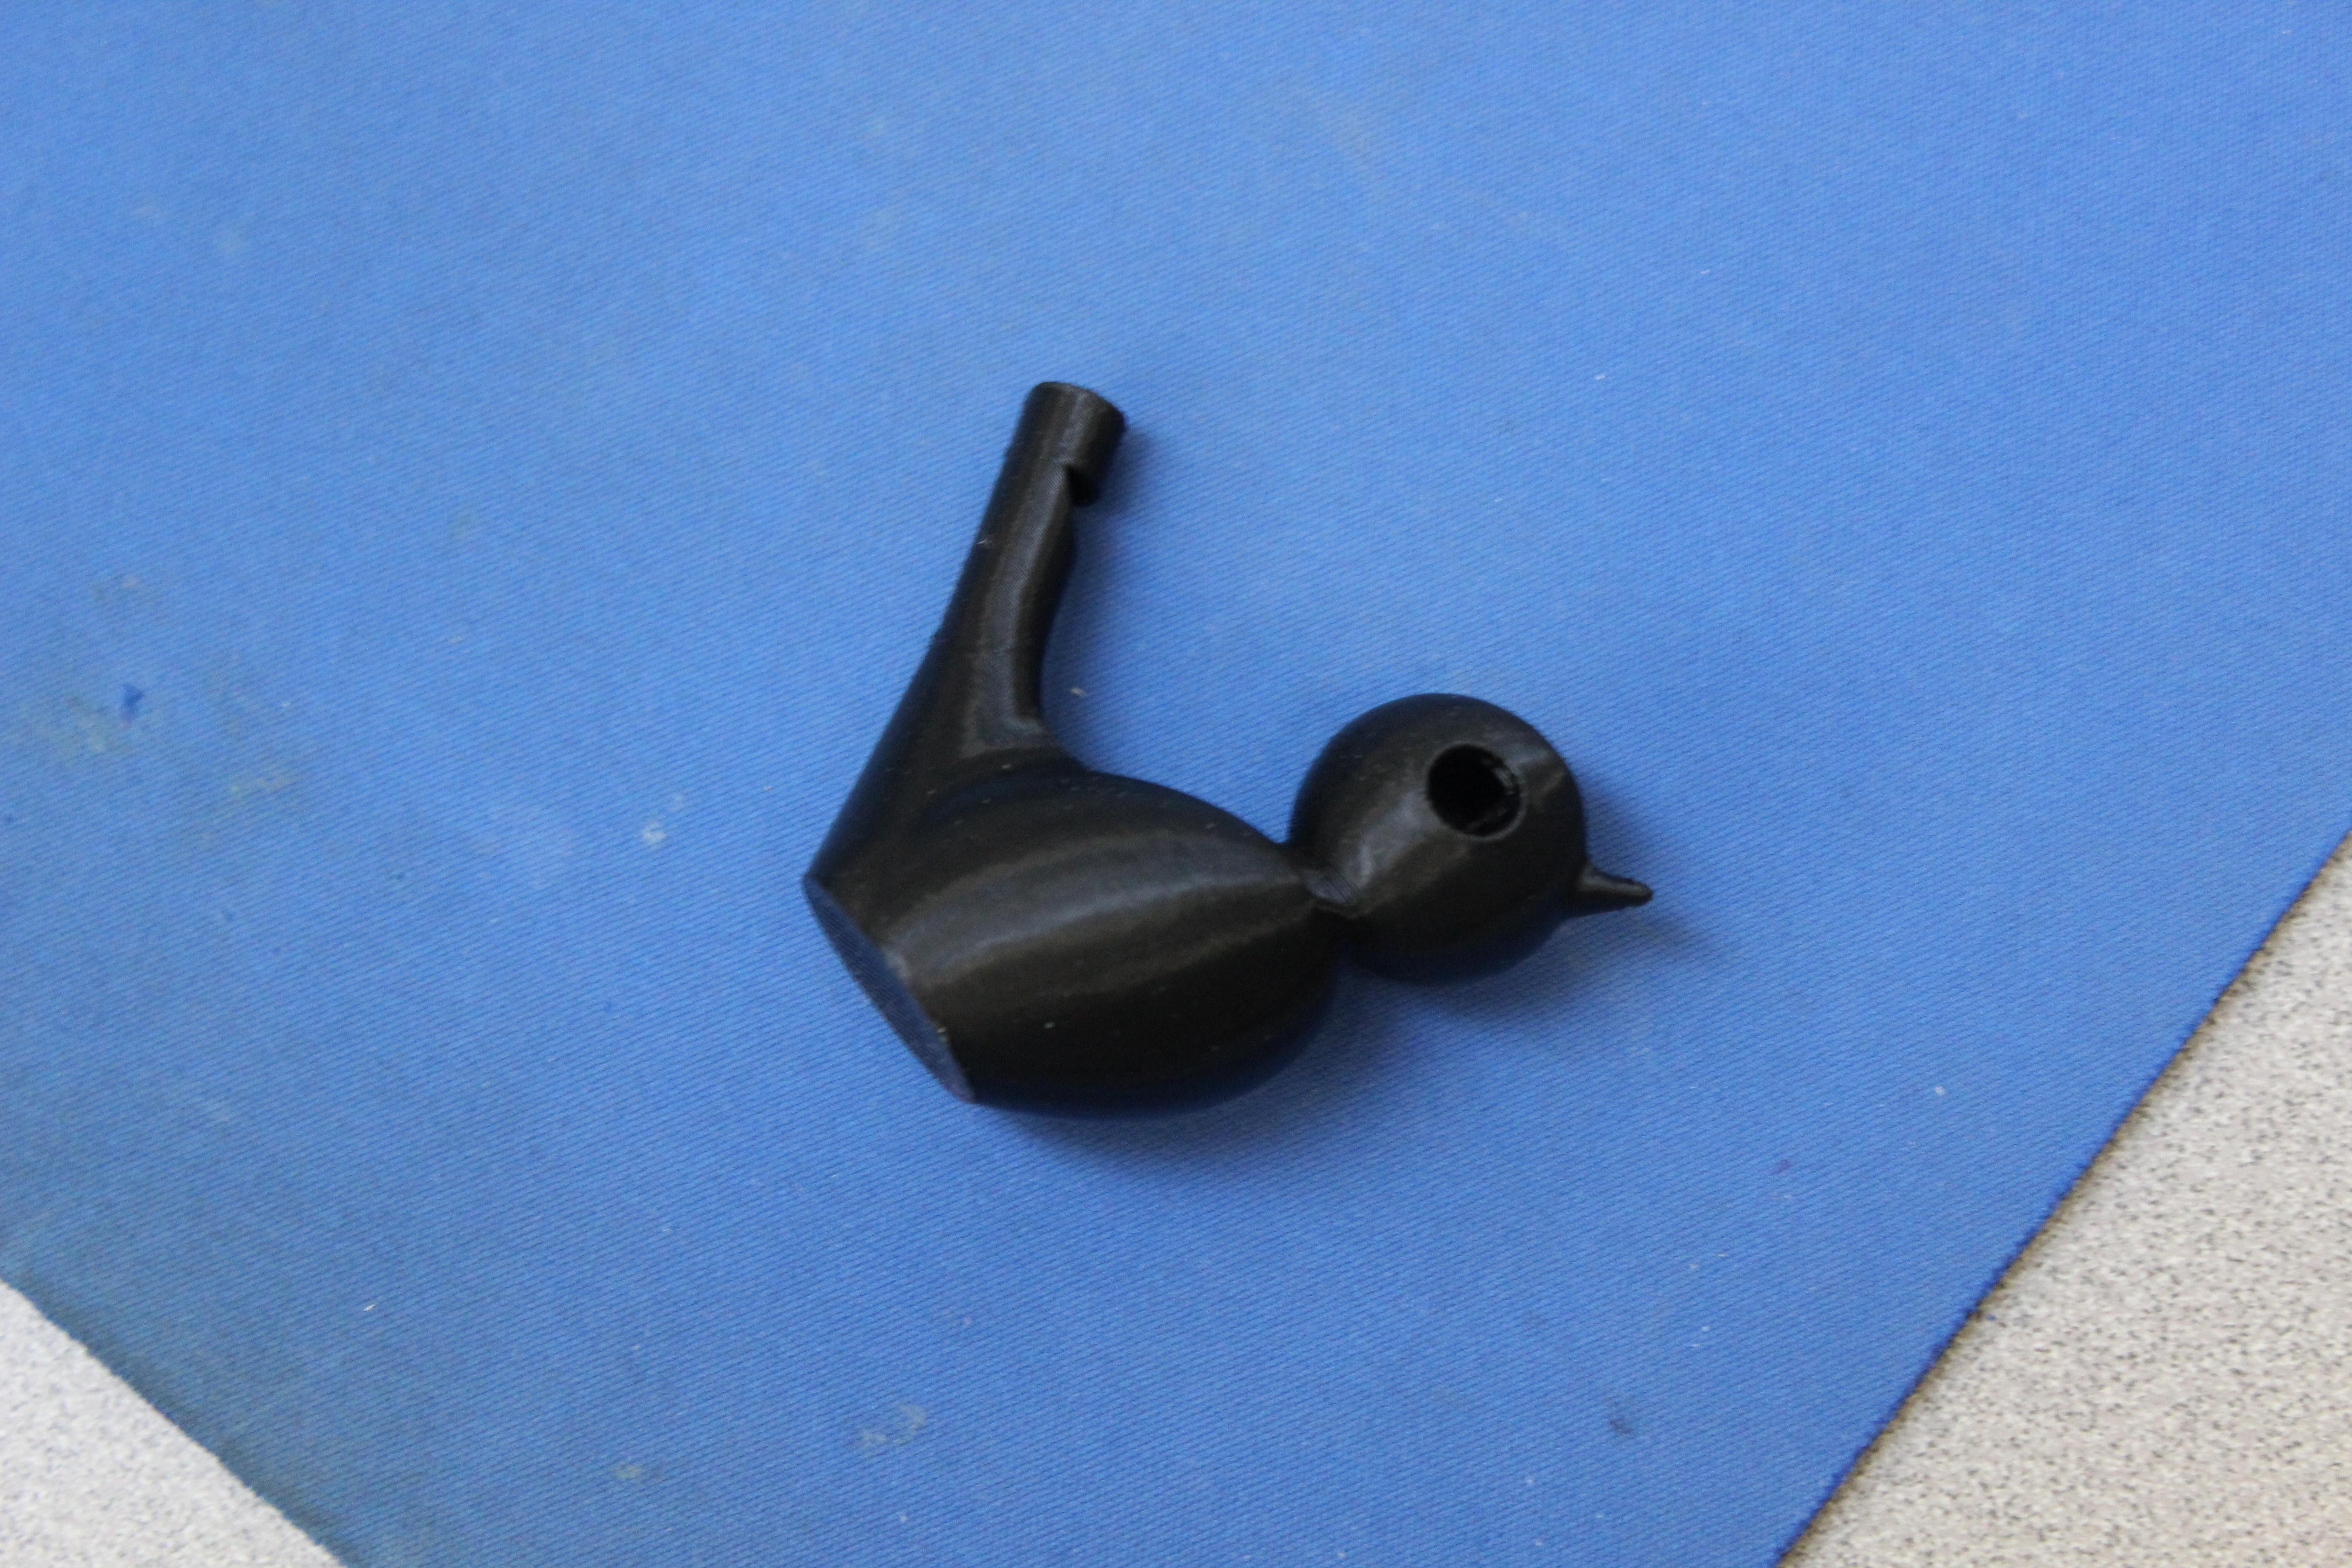birdCall: (745, 331, 1729, 1187)
